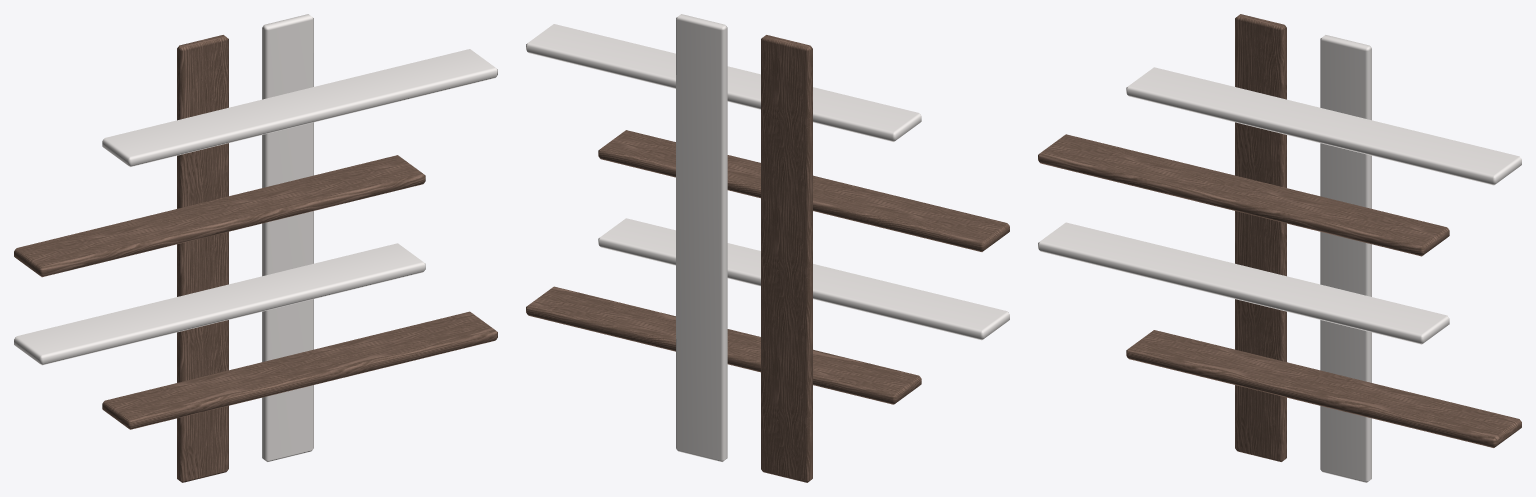
File: shelf_012.fbx
3 views of the same model, side by side, from view 1: azimuth 30°, elevation 25°; view 2: azimuth 150°, elevation 25°; view 3: azimuth 330°, elevation 25° (orthographic).
Parts seen in each view (by area): view 1: shelf_012; view 2: shelf_012; view 3: shelf_012.
Part boxes in pixels (x1,y1,x2,y2): shelf_012: [14, 14, 497, 482]; shelf_012: [526, 14, 1009, 482]; shelf_012: [1038, 14, 1521, 482].
Size of the model in its own units: 223 by 28.84 by 203.
